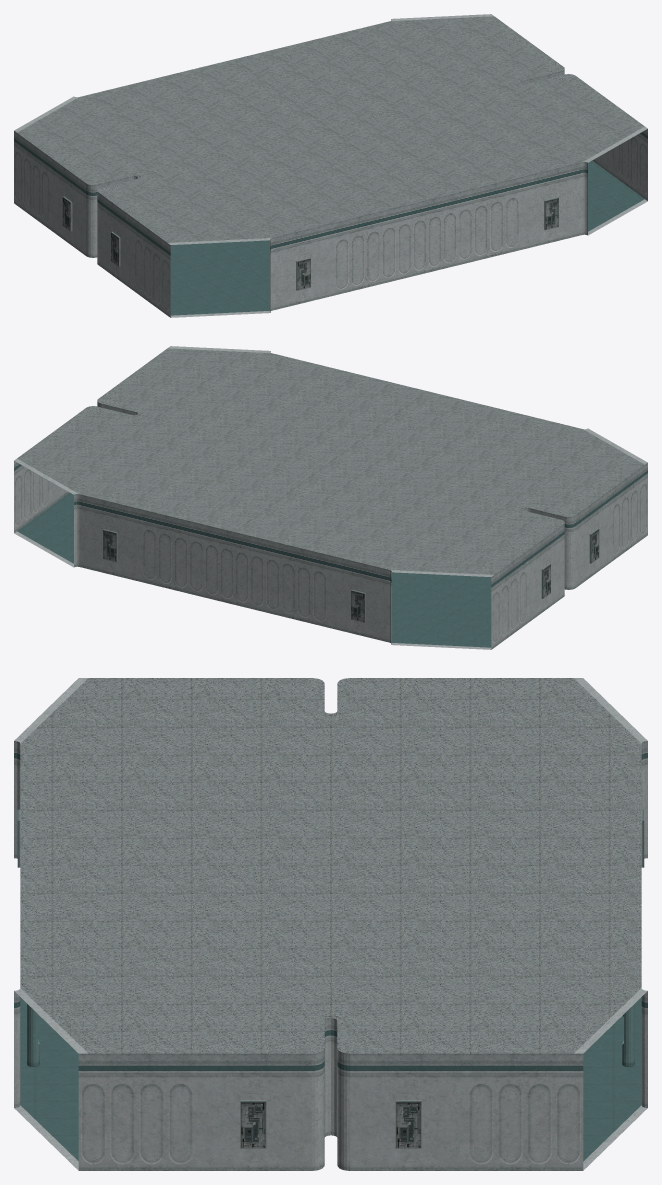
The model's file is mun_corl_hospital_s02_r2_mainroom_mesh.fbx.
The picture shows the model from 3 angles, top to bottom: view 1: azimuth 30°, elevation 25°; view 2: azimuth 150°, elevation 25°; view 3: azimuth 270°, elevation 25°; orthographic projection. The views are drawn at different scales.
Visible parts, largest first — view 1: mesh_node; view 2: mesh_node; view 3: mesh_node.
Part boxes in pixels (x1,y1,x2,y2): mesh_node: (14,14,647,317); mesh_node: (14,346,647,649); mesh_node: (14,678,647,1170).
Size of the model in its own units: 34.55 by 5 by 24.5.
